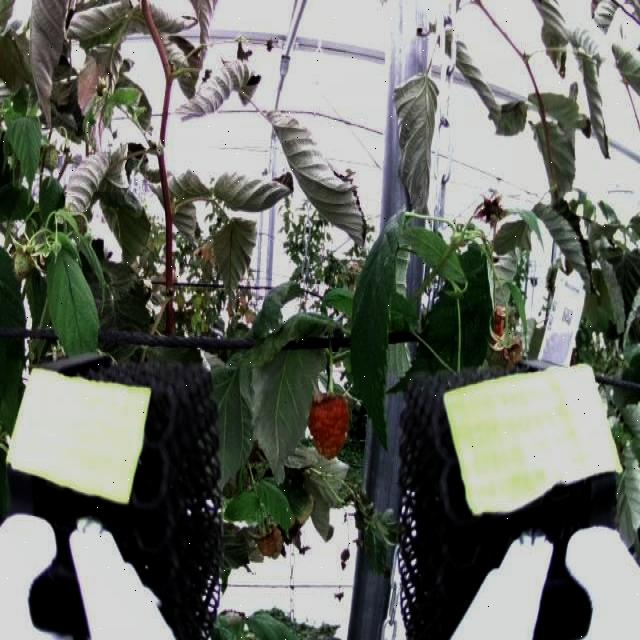Riped berries: (310, 388, 354, 460)
